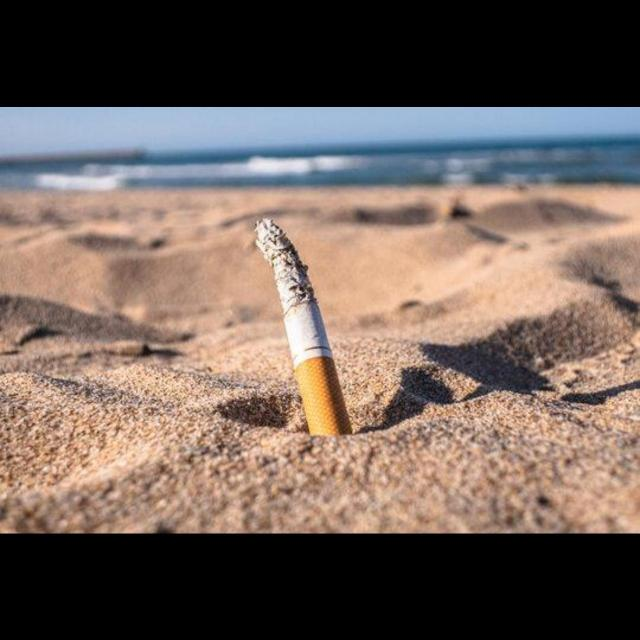cigarette: (256, 218, 353, 436)
